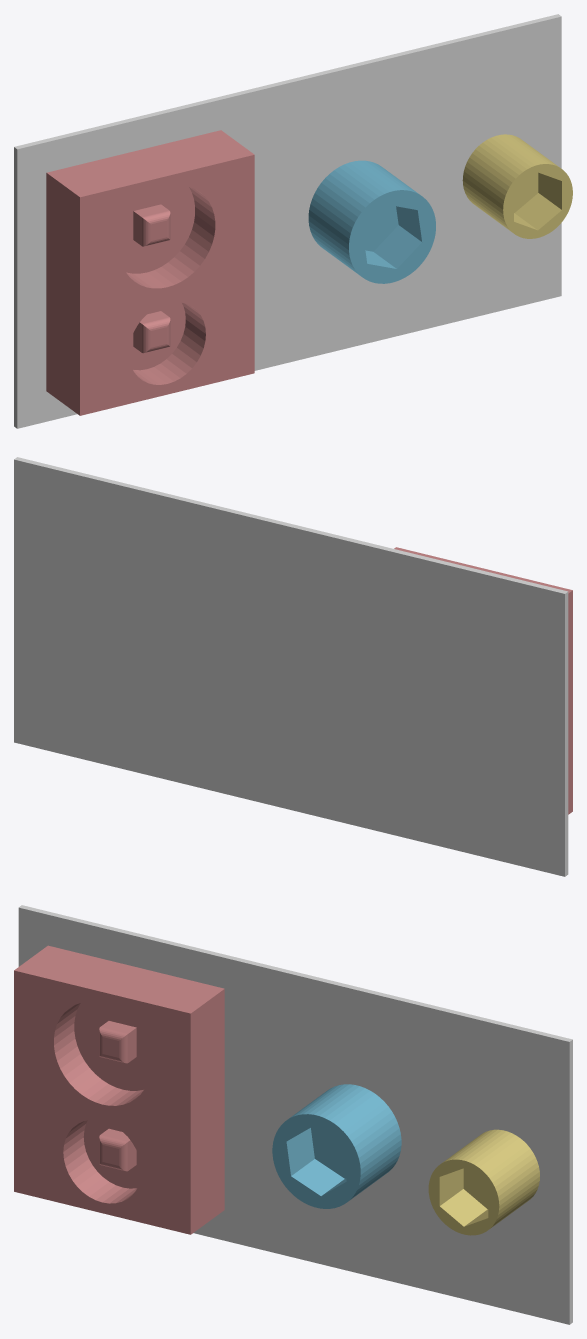
File: pickup_layout.glb
3 views of the same model, one above another, from view 1: azimuth 30°, elevation 25°; view 2: azimuth 150°, elevation 25°; view 3: azimuth 330°, elevation 25° (orthographic).
Visible parts, largest first — view 1: world, 0.obj, 2.obj, 1.obj; view 2: world, 0.obj; view 3: world, 0.obj, 2.obj, 1.obj.
Part boxes in pixels (x1,y1,x2,y2): world: (14, 14, 561, 428); 0.obj: (46, 130, 254, 415); 2.obj: (308, 160, 435, 283); 1.obj: (462, 134, 572, 238); world: (14, 457, 568, 876); 0.obj: (394, 547, 572, 814); world: (18, 905, 572, 1324); 0.obj: (14, 945, 224, 1234); 2.obj: (272, 1084, 401, 1208); 1.obj: (428, 1129, 539, 1235).
Size of the model in its own units: 18.7 by 9.18 by 2.6.
